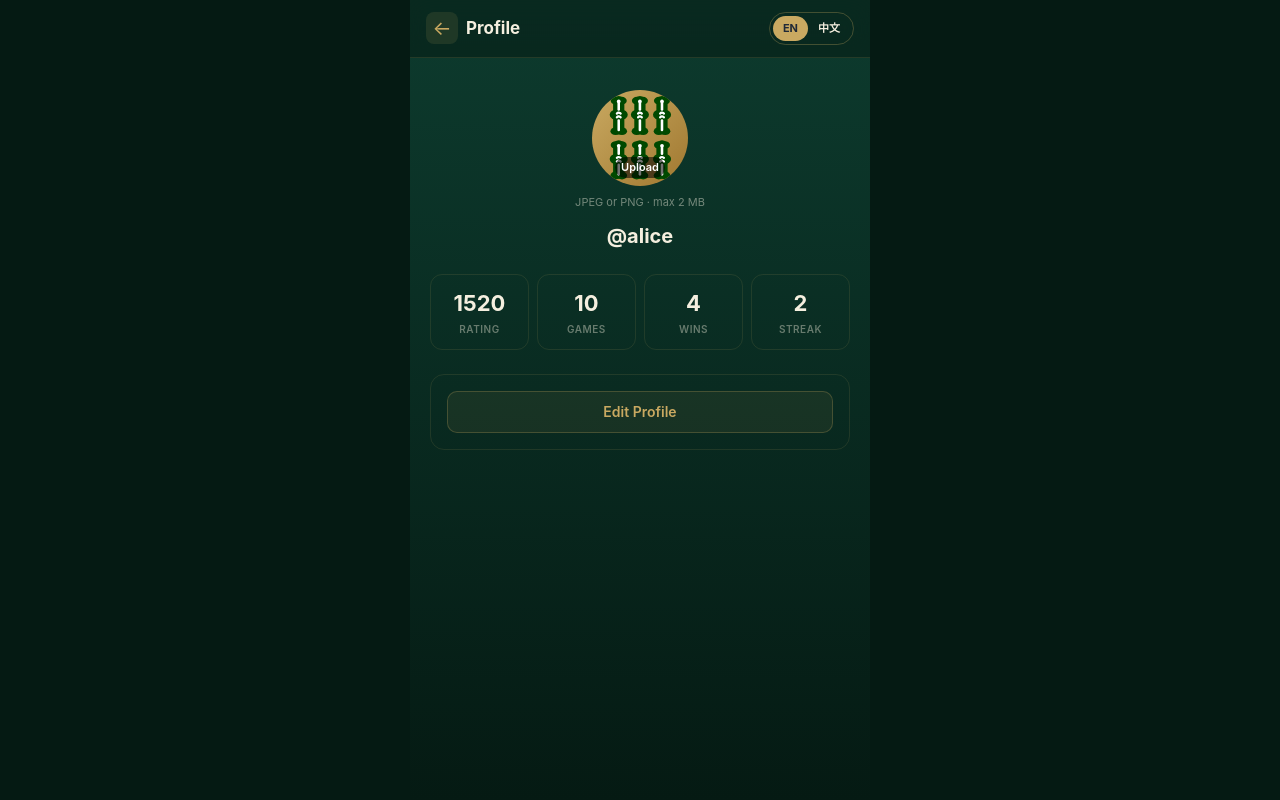
Test: ProfilePage › cancels edit and returns to view mode
Click the button "Edit Profile": (640, 412) x1=447 y1=391 x2=833 y2=433
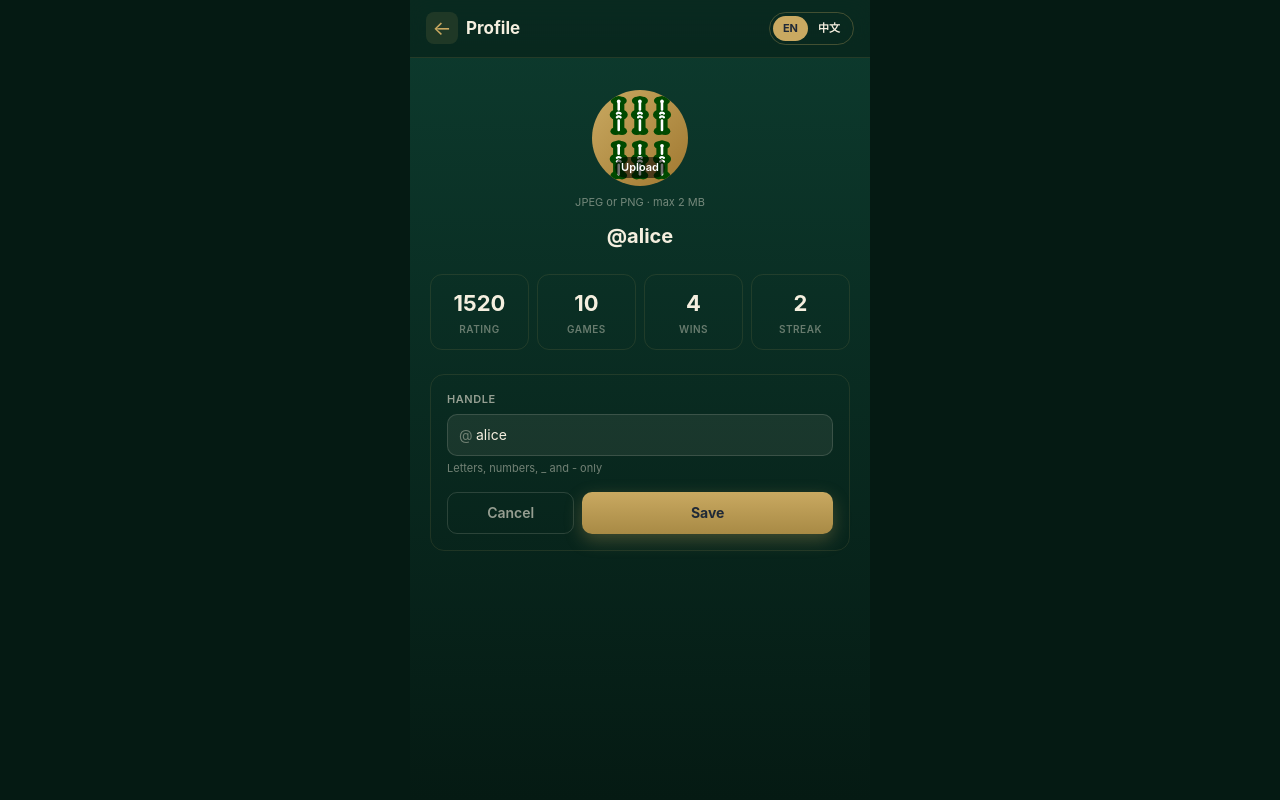
Now the button "Cancel" is shown
Click the button "Cancel": (511, 513) x1=447 y1=492 x2=574 y2=534
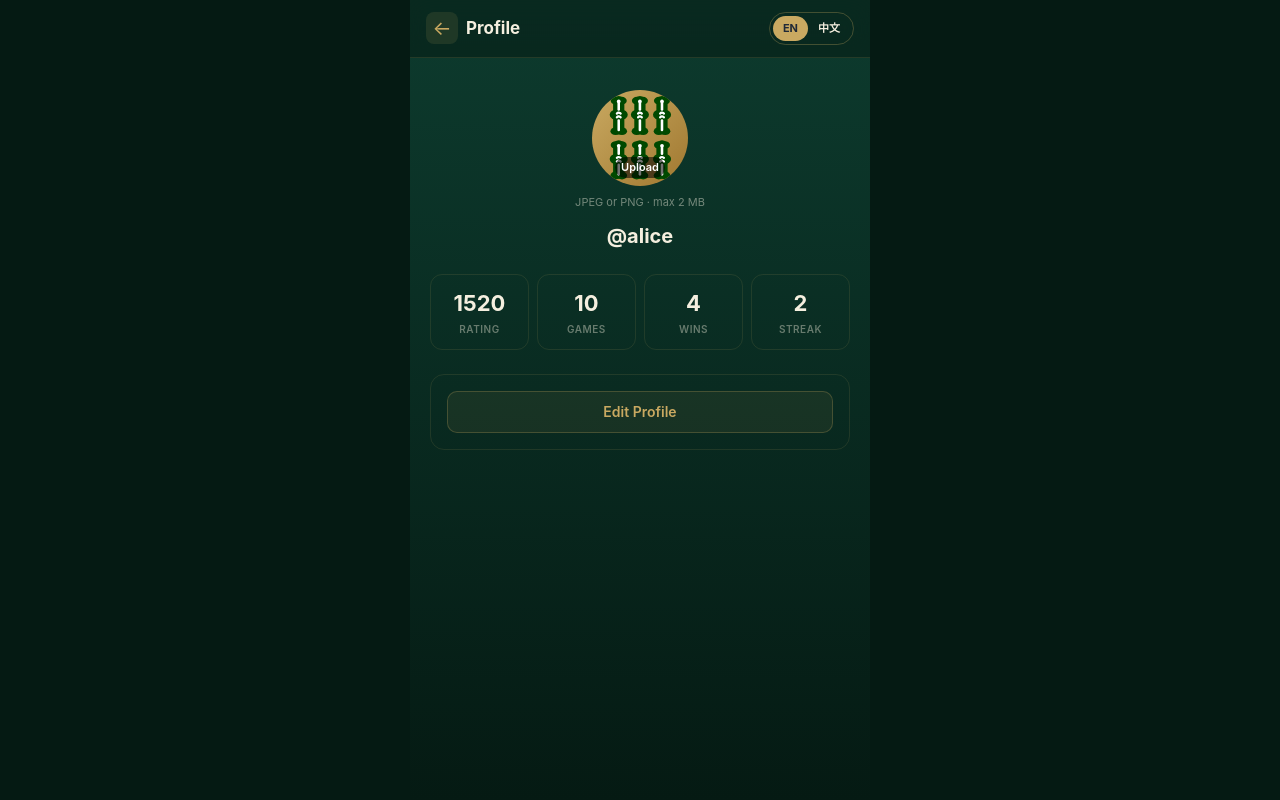
Now the button "Edit Profile" is shown, box x1=447 y1=391 x2=833 y2=433
